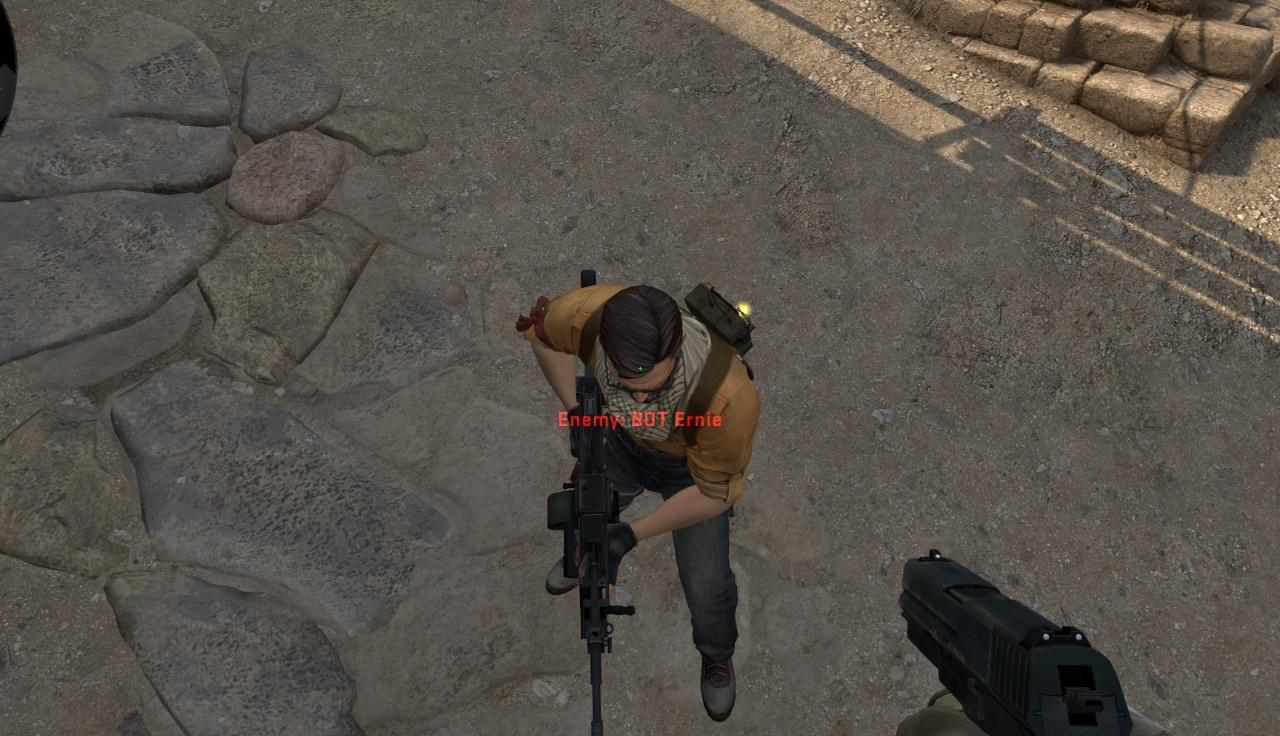pistol: (898, 549, 1209, 736)
tt: (523, 281, 762, 721)
tthead: (602, 286, 685, 401)
